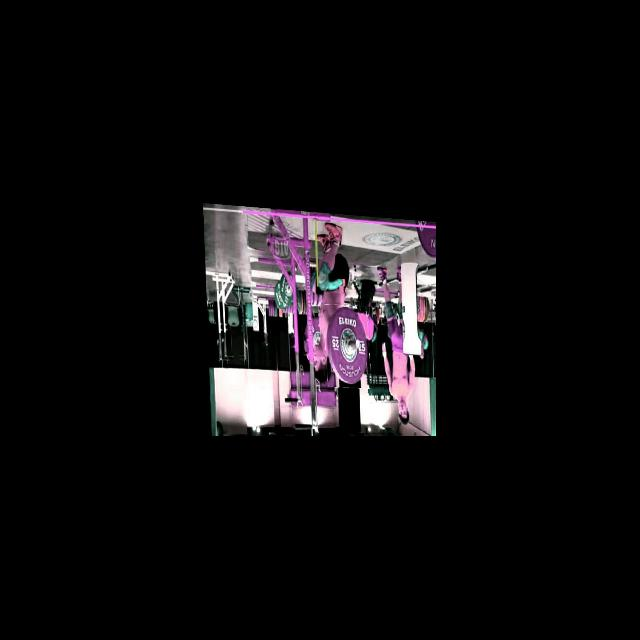barbell: (322, 301, 370, 386)
